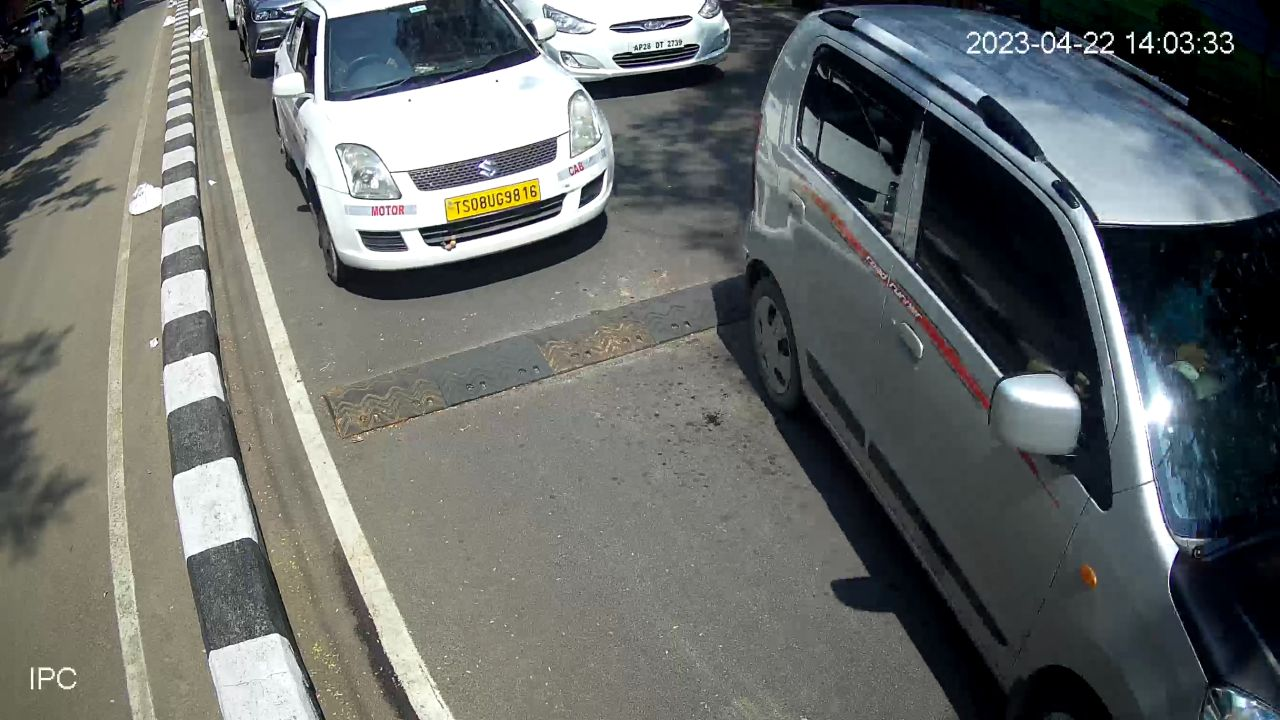license_plate: (439, 174, 546, 227), (626, 30, 690, 57)
